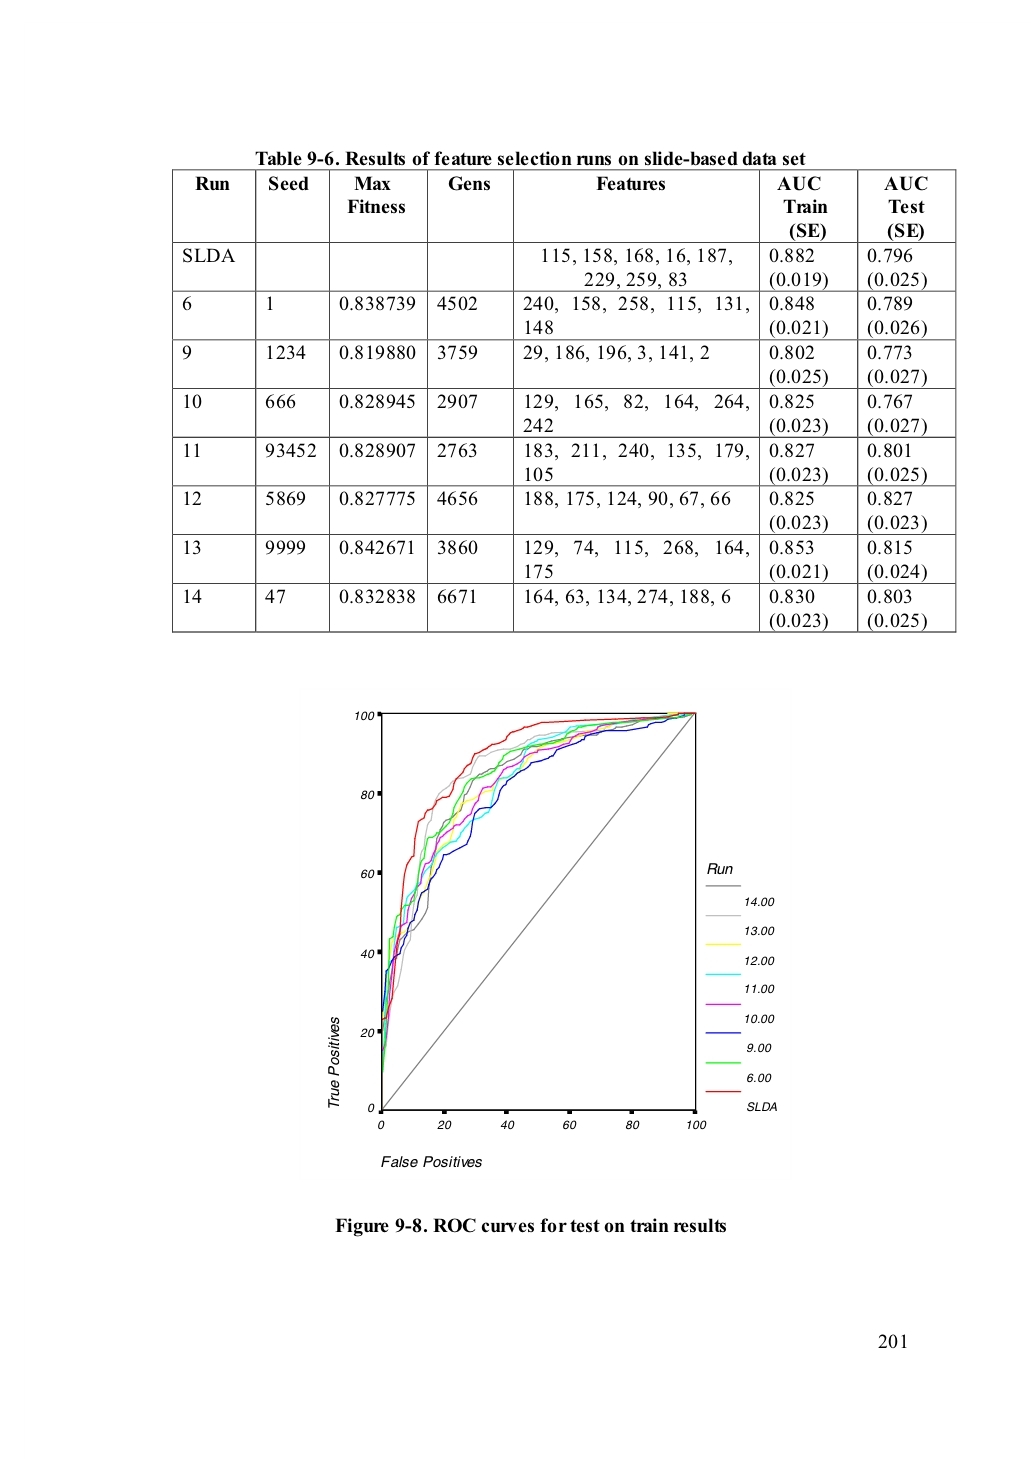Table: (172, 168, 956, 632)
figure: (328, 711, 775, 1129)
